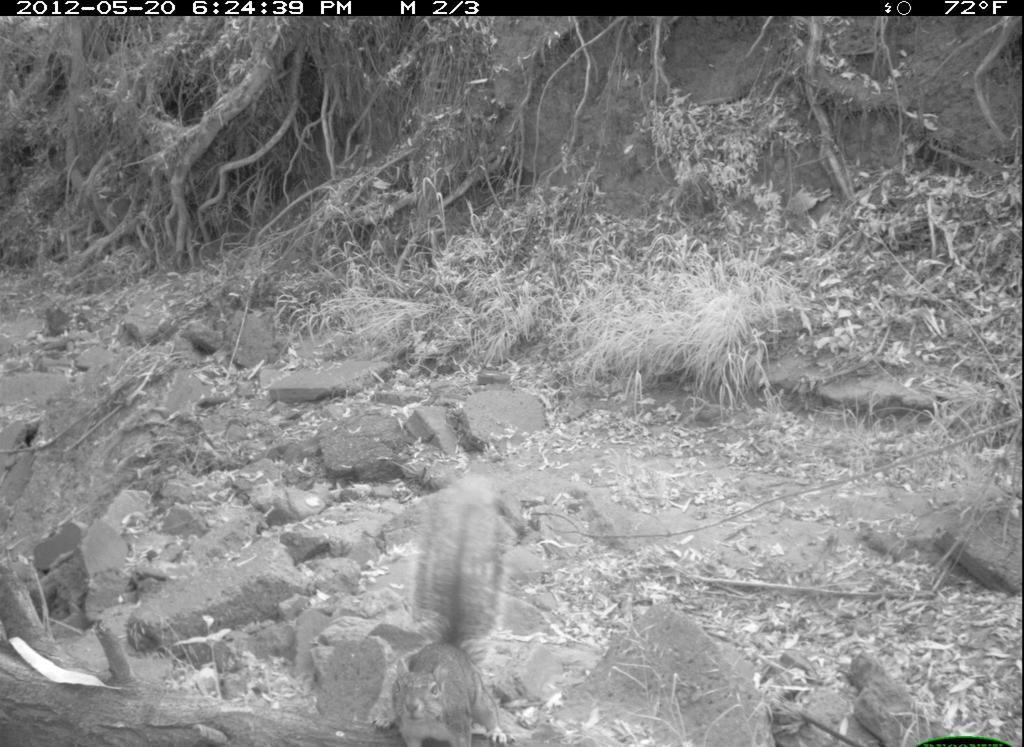squirrel: (355, 460, 542, 747)
